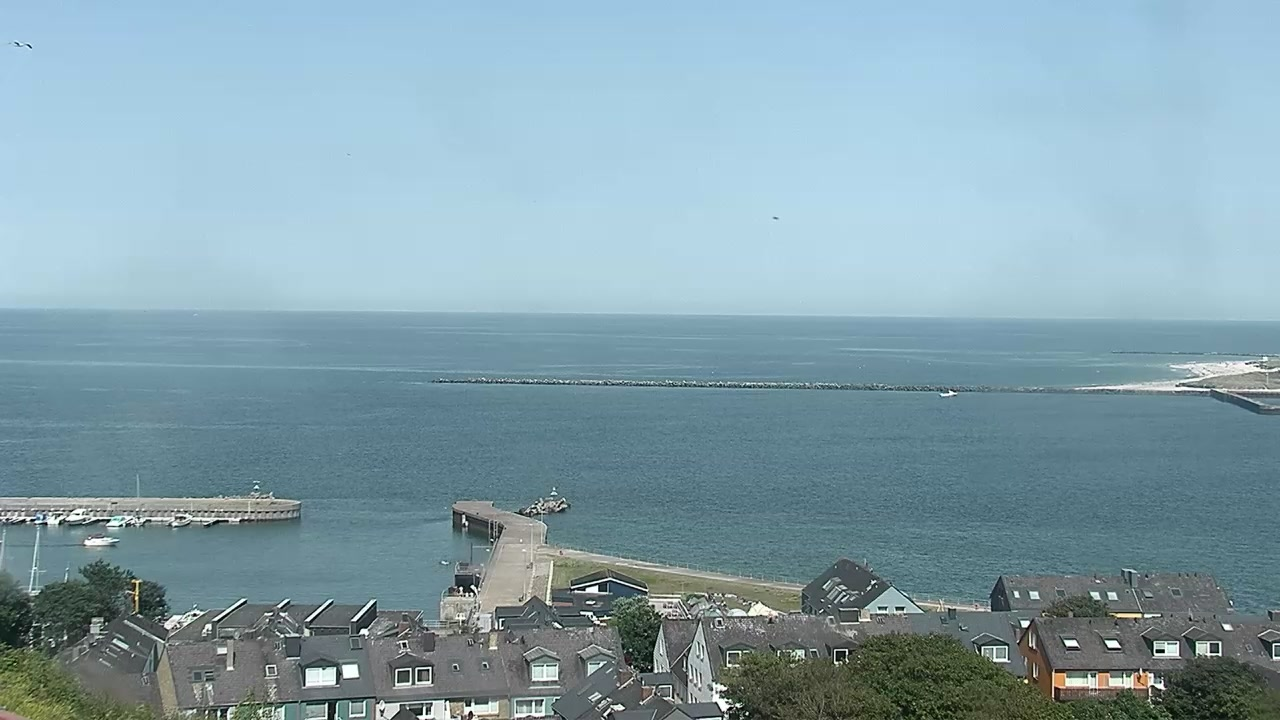human: (458, 584, 464, 598)
sea: (21, 528, 48, 595), (130, 472, 148, 526), (82, 533, 122, 547), (67, 506, 95, 525), (104, 515, 132, 530), (168, 511, 192, 527), (43, 512, 65, 526), (937, 386, 958, 397), (33, 514, 49, 525)
